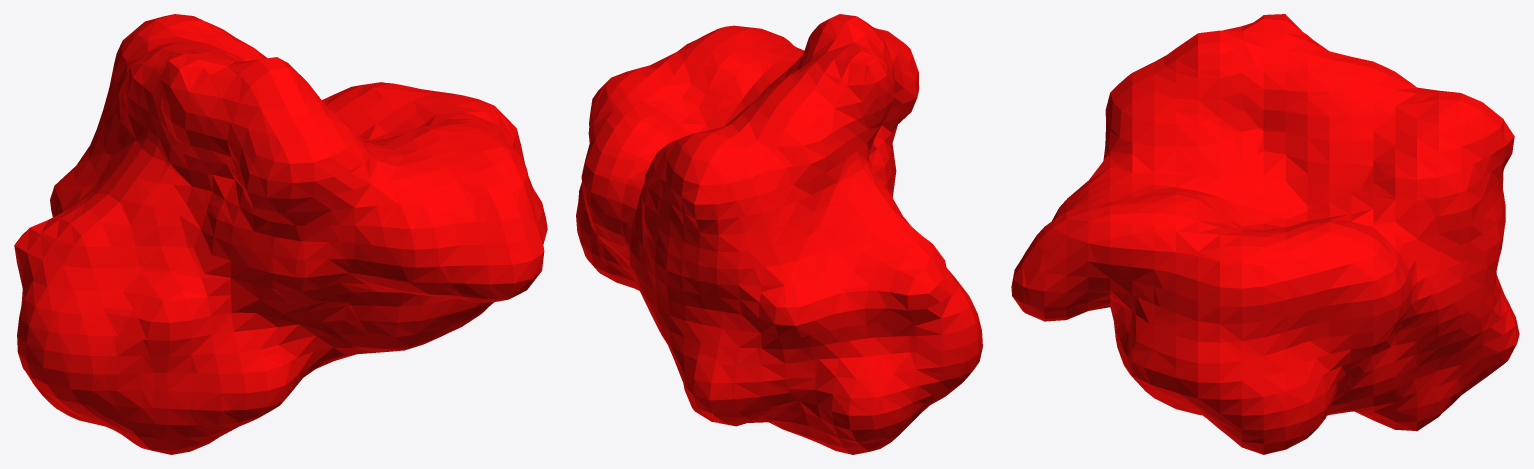
File: truC_coarse.dae
3 views of the same model, side by side, from view 1: azimuth 30°, elevation 25°; view 2: azimuth 150°, elevation 25°; view 3: azimuth 270°, elevation 25° (orthographic). The views are drawn at different scales.
Parts seen in each view (by area): view 1: truC; view 2: truC; view 3: truC.
Boxes of the visible parts, x1,y1,x2,y2 form: truC: (14,14,547,454); truC: (576,14,982,454); truC: (1011,14,1519,454).
Bounding box in the file's own units: 58.69 × 47.53 × 55.77.
